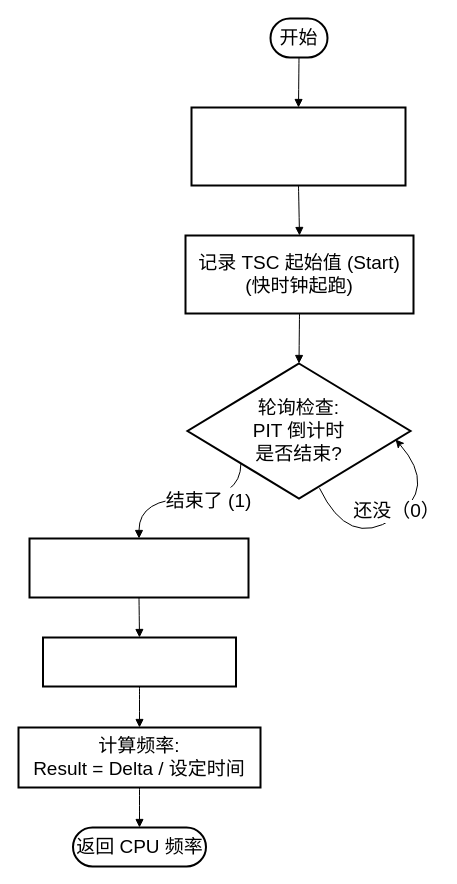
This 457x884 diagram has some shape labels left out. The box of each missing label's shape, as (x1, y1, x2, y2) in pixels:
启动 PIT (慢时钟) 设定倒计时 (如 50ms): (190, 106, 406, 186)
计算步数差: Delta = End - Start: (42, 636, 236, 687)
记录 TSC 结束值 (End) (快时钟冲线): (28, 537, 249, 598)
